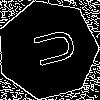U: (23, 24, 78, 72)
